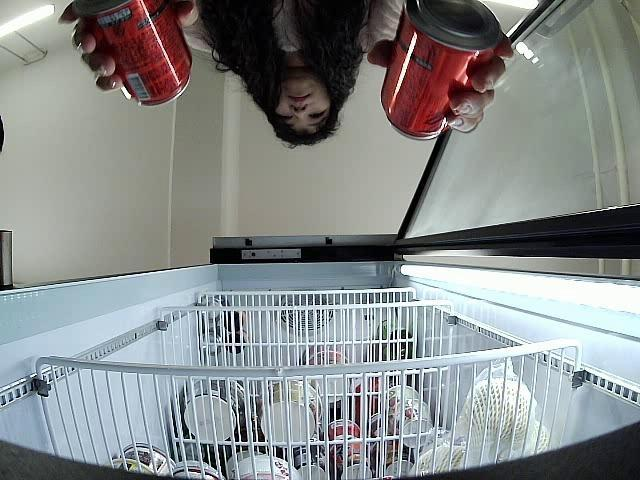11_cocaColaZero: (380, 0, 500, 141), (72, 0, 193, 105)
